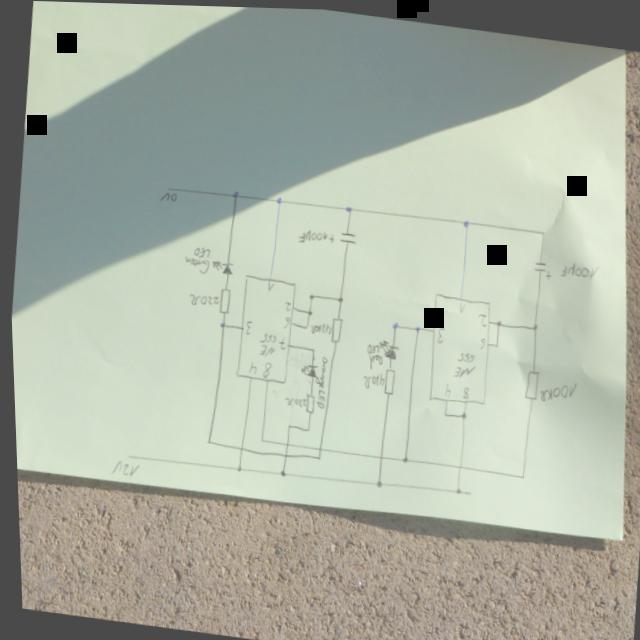capacitor: (324, 226, 354, 245), (529, 256, 550, 277)
crossover: (373, 451, 381, 460), (277, 450, 286, 458), (452, 460, 459, 469), (234, 442, 241, 451), (312, 444, 319, 451), (279, 439, 286, 446)
diode: (374, 335, 397, 358), (208, 257, 231, 274), (297, 360, 314, 377)
junction: (396, 452, 406, 463), (387, 318, 397, 329), (229, 188, 238, 199), (491, 315, 500, 326), (455, 407, 463, 419), (272, 194, 281, 203), (449, 484, 458, 493), (274, 467, 283, 476), (333, 293, 342, 302), (305, 290, 313, 300), (411, 321, 418, 332), (216, 318, 223, 329), (342, 202, 350, 211), (459, 216, 467, 225), (437, 407, 445, 416), (306, 344, 313, 354), (201, 436, 208, 446), (311, 453, 319, 461), (537, 225, 544, 234), (528, 320, 535, 329), (371, 477, 378, 486), (282, 420, 289, 429), (303, 306, 310, 315), (299, 320, 306, 329), (231, 463, 238, 472), (490, 338, 497, 346), (515, 469, 522, 477), (301, 424, 308, 431), (255, 436, 261, 443)
resistor: (519, 366, 537, 397), (214, 285, 230, 314), (379, 364, 393, 393), (326, 314, 340, 342), (300, 389, 313, 413)
terminal: (162, 182, 170, 191), (121, 451, 129, 460)
text: (535, 373, 574, 402), (308, 353, 327, 408), (179, 243, 209, 274), (557, 257, 596, 278), (448, 348, 474, 377), (361, 340, 381, 369), (294, 226, 326, 244), (106, 458, 136, 477), (254, 329, 274, 356), (358, 369, 383, 389), (185, 291, 216, 307), (306, 318, 329, 333), (279, 393, 303, 406), (156, 189, 176, 202), (258, 360, 269, 377), (474, 309, 485, 325), (433, 324, 443, 341), (439, 379, 448, 396), (241, 317, 250, 334), (458, 382, 466, 398), (245, 359, 254, 373), (279, 298, 289, 310), (279, 314, 288, 327), (274, 335, 283, 348), (455, 298, 463, 312), (476, 333, 483, 347), (264, 278, 271, 290)
